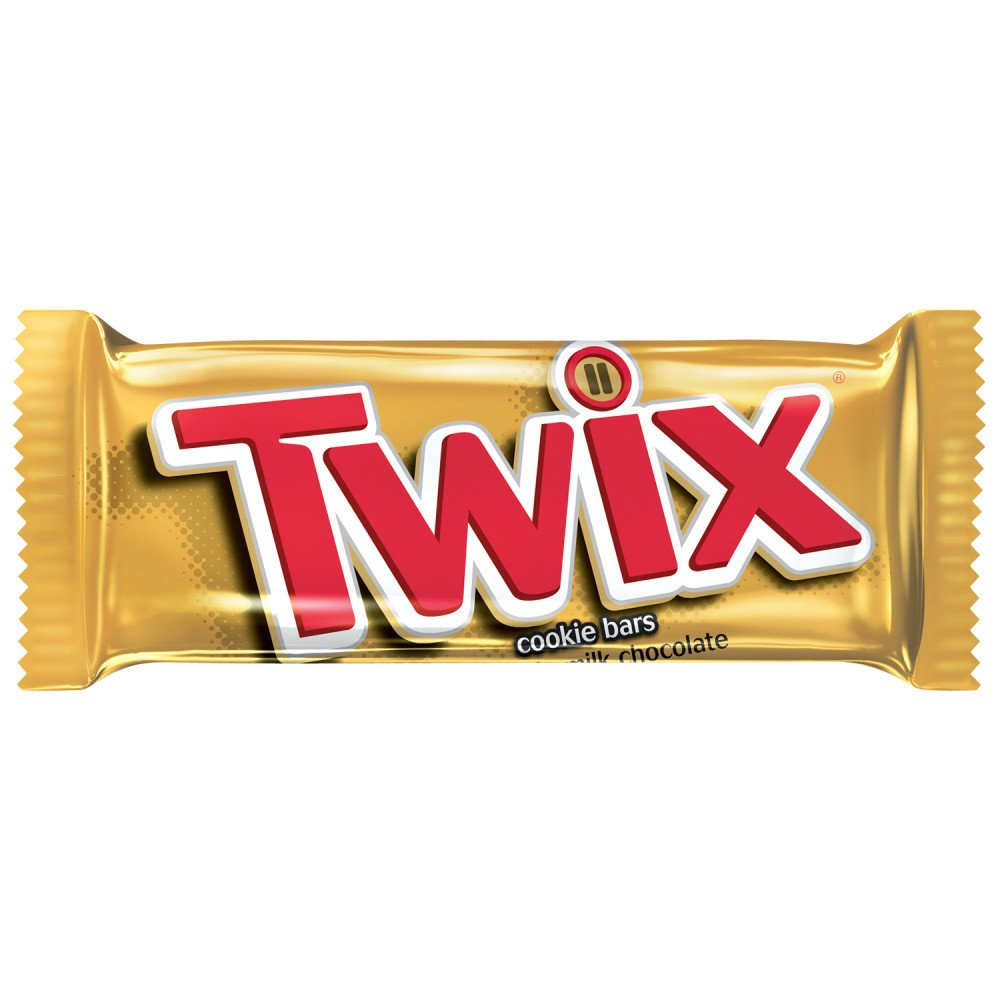twix: (12, 299, 1000, 701)
